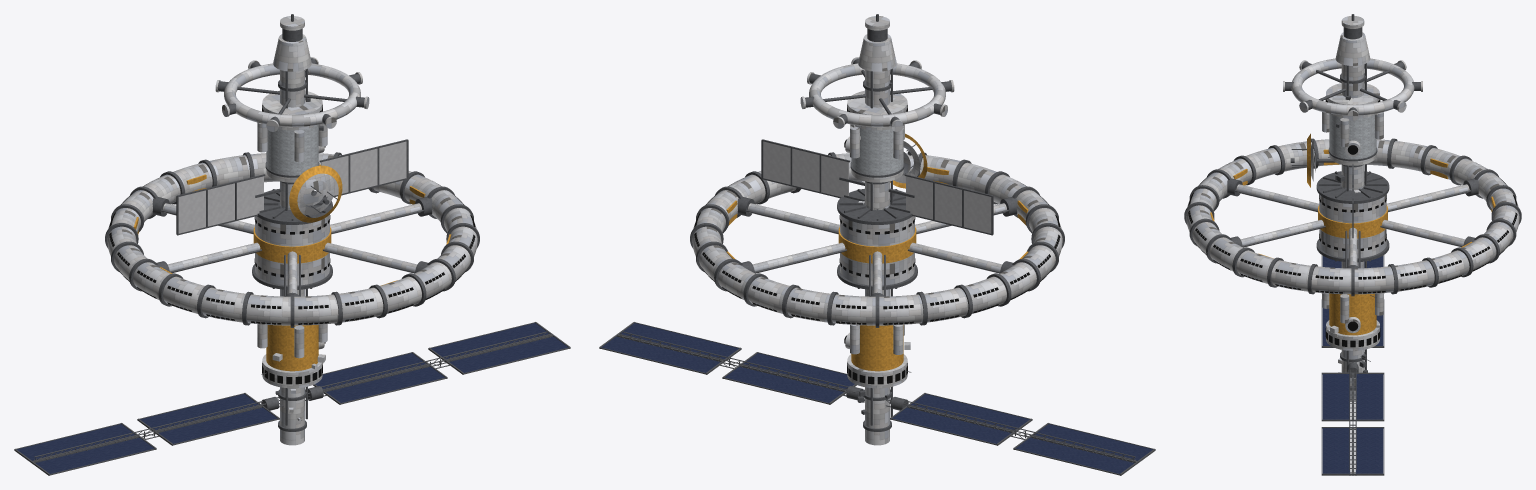
File: station.gltf
3 views of the same model, side by side, from view 1: azimuth 30°, elevation 25°; view 2: azimuth 150°, elevation 25°; view 3: azimuth 270°, elevation 25° (orthographic). The views are drawn at different scales.
Parts seen in each view (by area): view 1: core, habitat, wings, dock, truss; view 2: core, habitat, wings, dock, truss; view 3: habitat, core, wings, dock, truss.
Boxes of the visible parts, x1=… form: core: x1=176, y1=14, x2=408, y2=445; habitat: x1=105, y1=152, x2=479, y2=327; wings: x1=14, y1=322, x2=570, y2=475; dock: x1=215, y1=57, x2=369, y2=131; truss: x1=34, y1=331, x2=550, y2=462; core: x1=761, y1=14, x2=993, y2=445; habitat: x1=690, y1=152, x2=1064, y2=327; wings: x1=599, y1=322, x2=1155, y2=475; dock: x1=800, y1=57, x2=954, y2=131; truss: x1=619, y1=331, x2=1135, y2=462; habitat: x1=1184, y1=138, x2=1521, y2=296; core: x1=1290, y1=14, x2=1389, y2=401; wings: x1=1321, y1=255, x2=1384, y2=475; dock: x1=1283, y1=58, x2=1422, y2=120; truss: x1=1347, y1=362, x2=1358, y2=473.
Bounding box in the file's own units: 106 × 82.5 × 65.9.
Materials: 7 (7 with a texture image).
